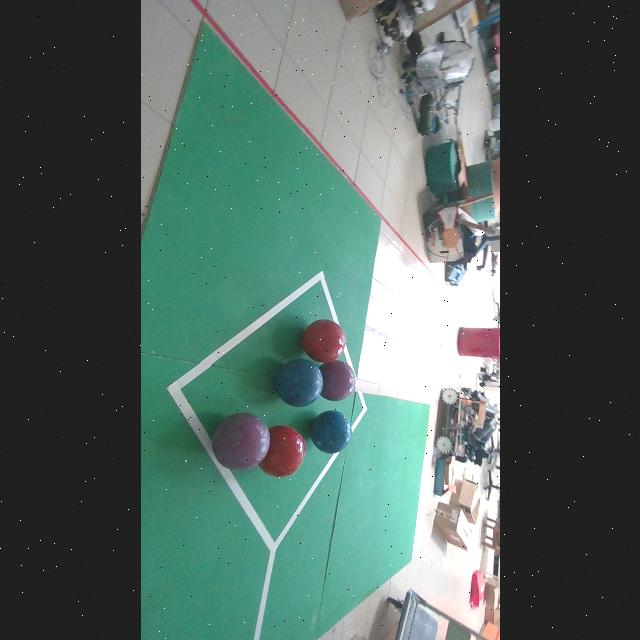B: (275, 359, 322, 407), (310, 411, 351, 454)
P: (212, 412, 269, 470), (320, 360, 355, 401)
R: (259, 425, 306, 478), (301, 320, 346, 363)
